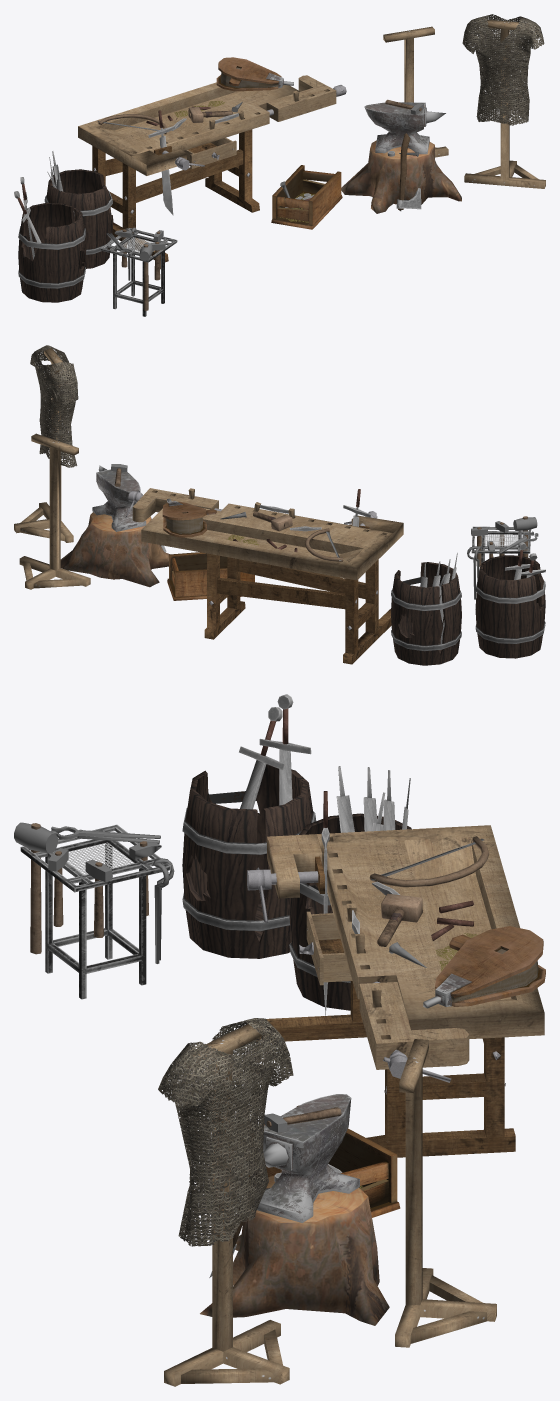
The model's file is workshop-blacksmithing-tools.glb.
3 views of the same model, one above another, from view 1: azimuth 30°, elevation 25°; view 2: azimuth 150°, elevation 25°; view 3: azimuth 270°, elevation 25° (orthographic). The views are drawn at different scales.
Parts seen in each view (by area): view 1: Object_2, Object_4, Object_5, Object_6, Object_3, Object_7; view 2: Object_2, Object_4, Object_6, Object_5, Object_3, Object_7; view 3: Object_2, Object_5, Object_6, Object_4, Object_7, Object_3.
Boxes of the visible parts, x1,y1,x2,y2 form: Object_2: (78, 75, 346, 262); Object_4: (18, 169, 177, 316); Object_5: (383, 14, 545, 188); Object_6: (216, 57, 461, 213); Object_3: (14, 106, 421, 259); Object_7: (98, 99, 424, 310); Object_2: (125, 488, 403, 664); Object_4: (391, 526, 545, 665); Object_6: (60, 465, 216, 587); Object_5: (14, 345, 90, 589); Object_3: (151, 489, 545, 644); Object_7: (111, 464, 538, 599); Object_2: (247, 825, 544, 1157); Object_5: (158, 1018, 496, 1386); Object_6: (200, 926, 545, 1325); Object_4: (20, 764, 411, 1010); Object_7: (14, 822, 489, 1191); Object_3: (209, 694, 473, 1277).
Size of the model in its own units: 92.22 by 29.32 by 42.26.
Materials: 6 (6 with a texture image).
